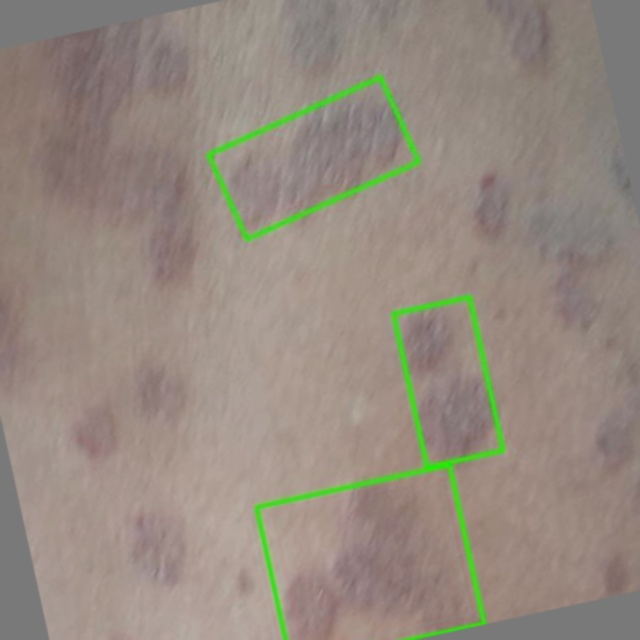Tinea Corporis: (256, 464, 484, 639), (208, 77, 418, 240), (393, 296, 503, 467)
